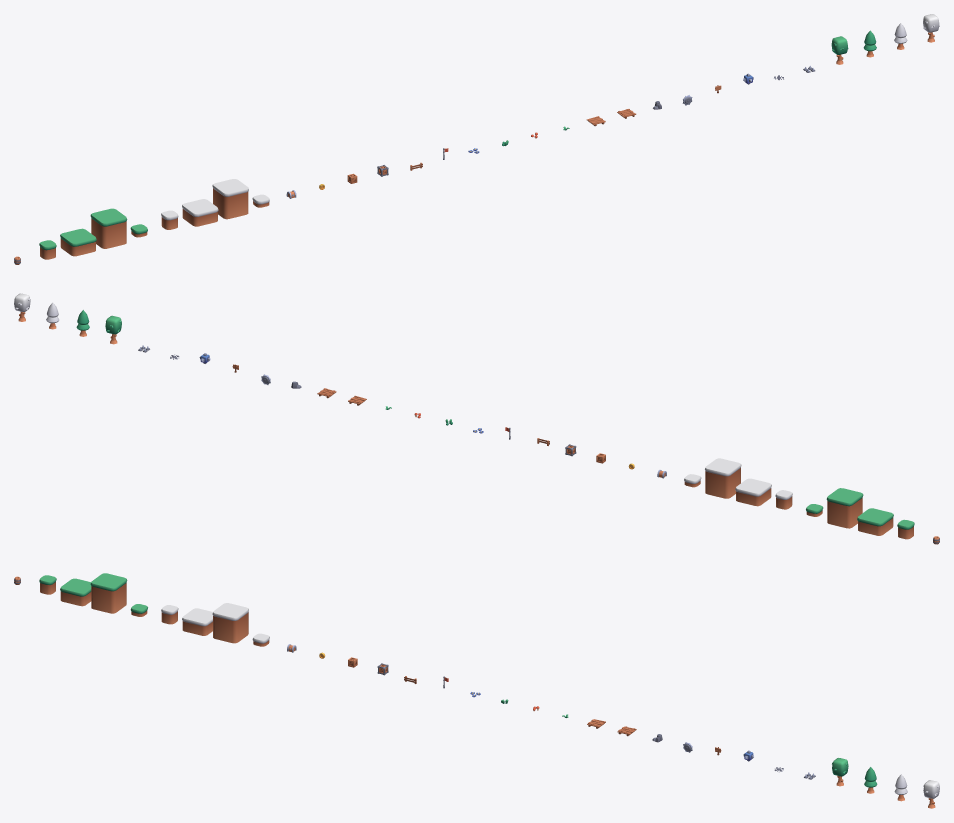
The model's file is kit.glb.
3 views of the same model, one above another, from view 1: azimuth 30°, elevation 25°; view 2: azimuth 150°, elevation 25°; view 3: azimuth 330°, elevation 25° (orthographic).
Visible parts, largest first — view 1: block-grass-large-tall, block-snow-large-tall, block-grass-large, block-snow-large; view 2: block-snow-large-tall, block-grass-large-tall, block-snow-large, block-grass-large; view 3: block-grass-large-tall, block-snow-large-tall, block-grass-large, block-snow-large.
Boxes of the visible parts, x1,y1,x2,y2 form: block-grass-large-tall: (90,208,127,248); block-snow-large-tall: (212,179,248,219); block-grass-large: (60,228,96,256); block-snow-large: (182,199,218,226); block-snow-large-tall: (705,458,741,498); block-grass-large-tall: (826,488,863,528); block-snow-large: (735,478,771,506); block-grass-large: (857,508,893,535); block-grass-large-tall: (90,573,127,613); block-snow-large-tall: (212,603,248,643); block-grass-large: (60,578,91,606); block-snow-large: (182,608,212,635).
Size of the model in its own units: 75.81 by 2.4 by 2.08.
1 material, 1 textured.
